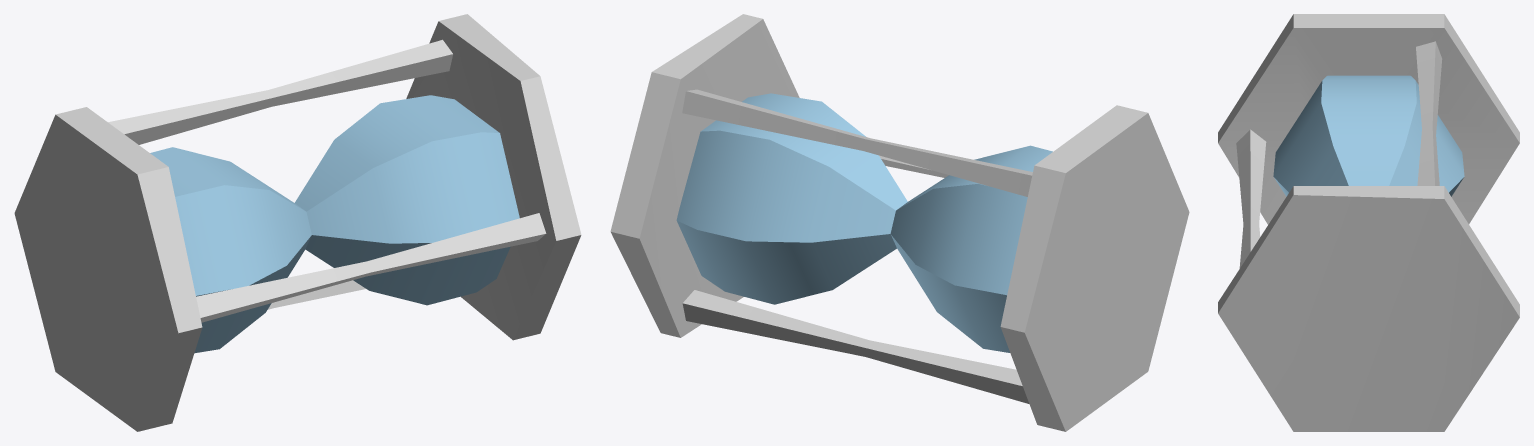
The model's file is TimeCharacter.fbx.
3 renders of one model, left to right at view 1: azimuth 30°, elevation 25°; view 2: azimuth 150°, elevation 25°; view 3: azimuth 270°, elevation 25°, orthographic. The views are drawn at different scales.
Visible parts, largest first — view 1: hourglass; view 2: hourglass; view 3: hourglass.
Part boxes in pixels (left/top/right/bottom): hourglass: left=14, top=14, right=581, bottom=431; hourglass: left=610, top=14, right=1189, bottom=431; hourglass: left=1218, top=14, right=1519, bottom=431.
Bounding box in the file's own units: 1.04 × 0.6182 × 0.7139.
